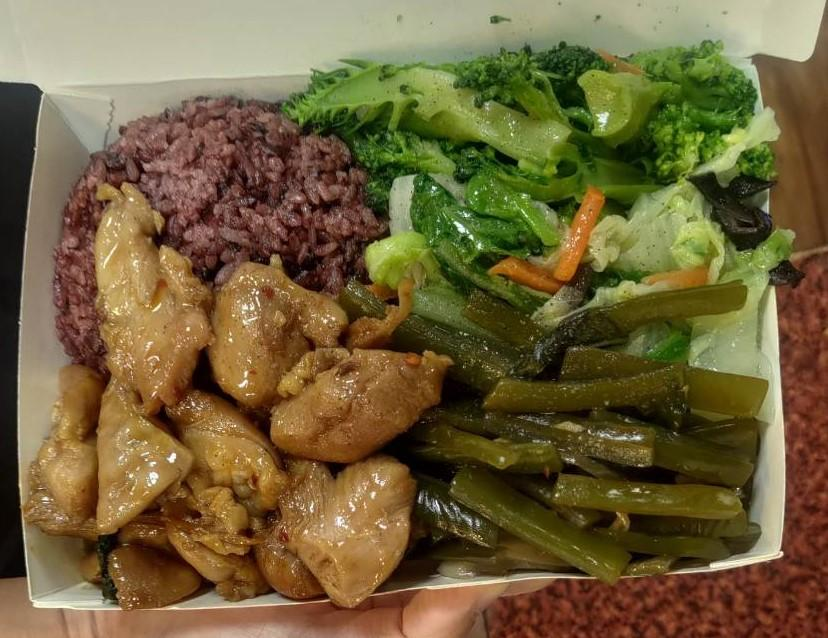big grilled chicken leg: (12, 40, 800, 617)
braised fish: (56, 85, 380, 357)
braised fish fillet: (409, 287, 767, 579), (283, 40, 753, 201), (377, 180, 785, 349)
braised pork: (29, 200, 441, 610)
